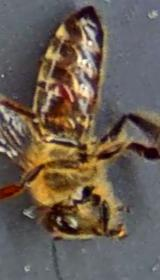varroa_mite: (42, 69, 88, 114)
